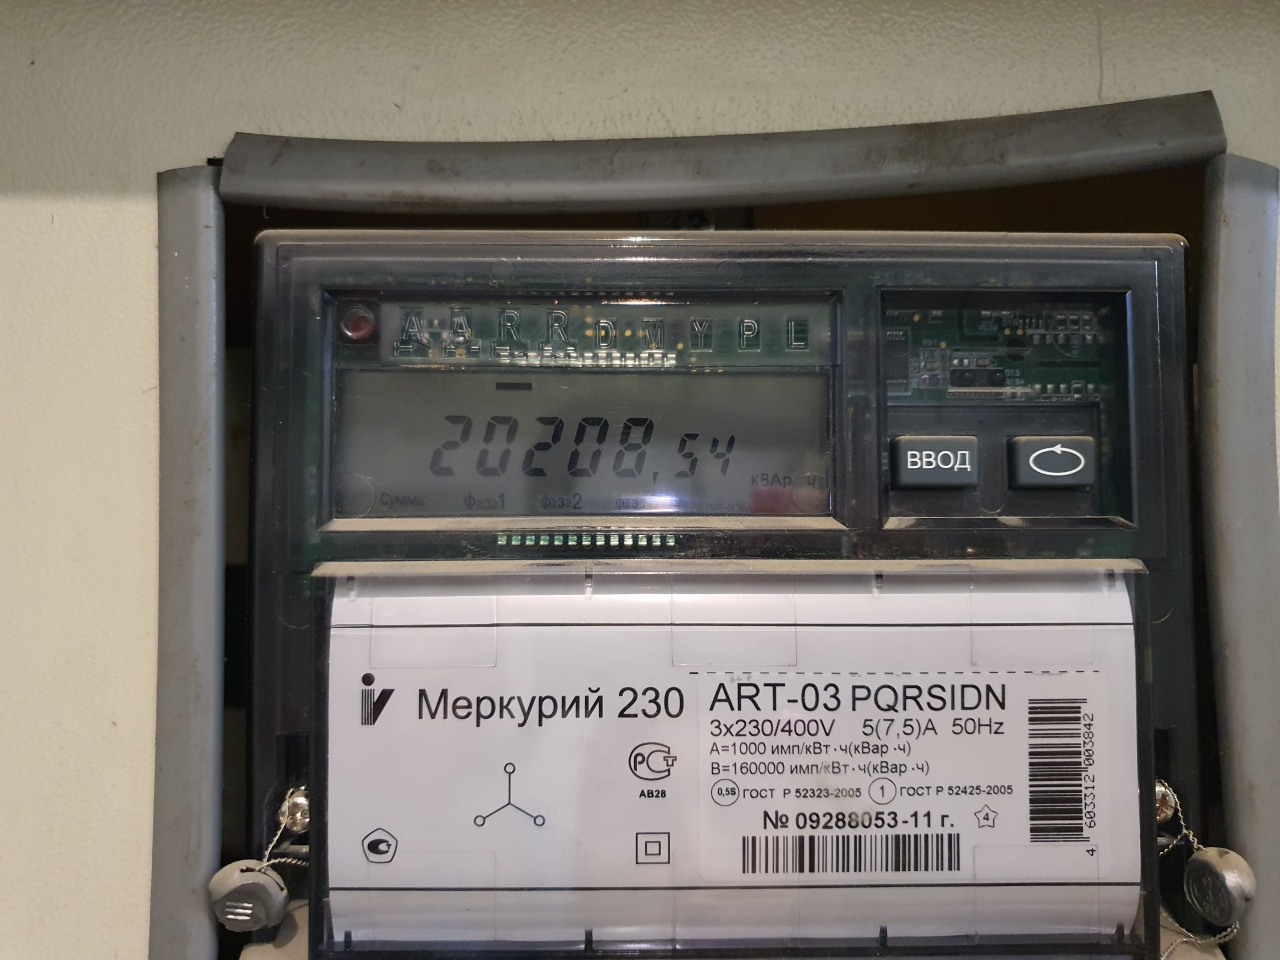screen: (306, 342, 866, 546)
